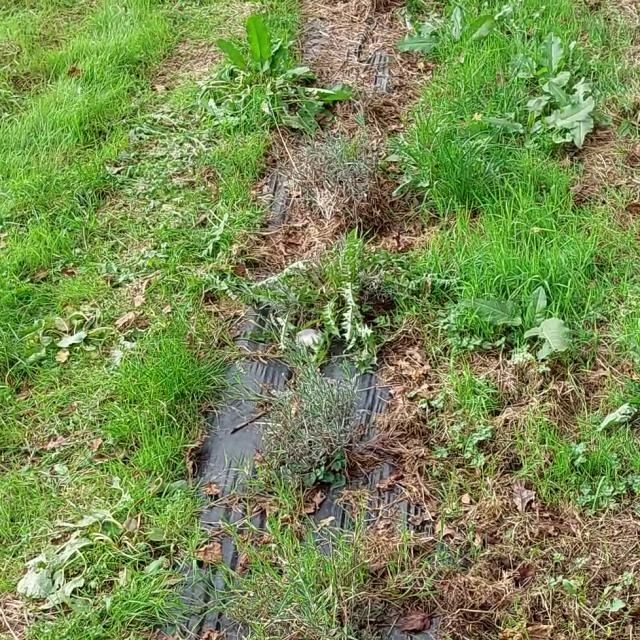organic waste: (183, 0, 323, 154), (14, 492, 171, 609), (454, 266, 615, 364), (509, 67, 622, 172), (381, 0, 517, 81), (16, 291, 119, 363), (568, 375, 640, 451), (502, 42, 601, 97)
